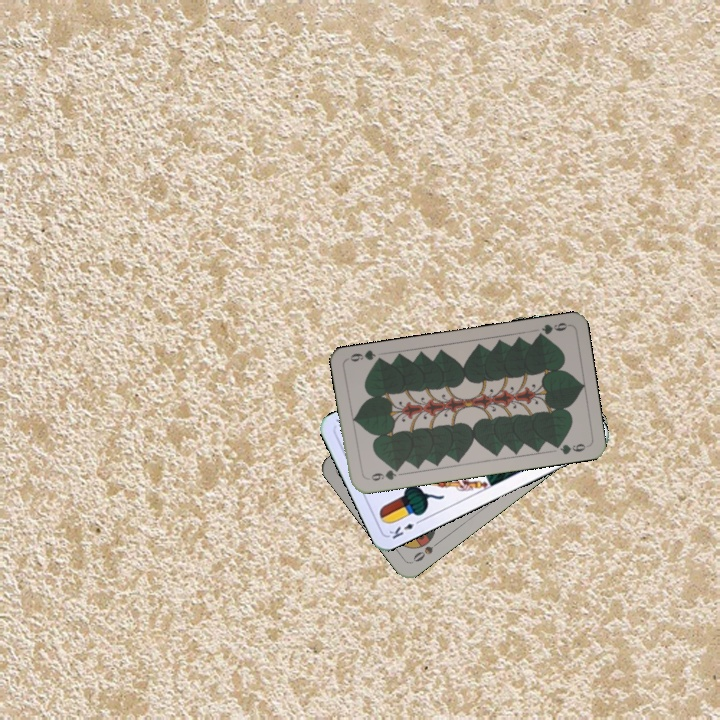EK: (385, 515, 424, 542)
G9: (532, 318, 571, 341), (363, 464, 402, 484)
SO: (408, 537, 443, 565)
